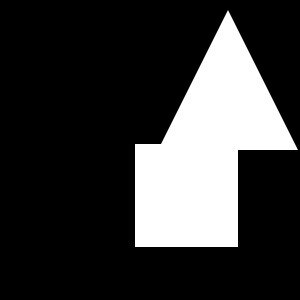circle: (135, 144, 238, 247)
triangle: (158, 10, 298, 150)
